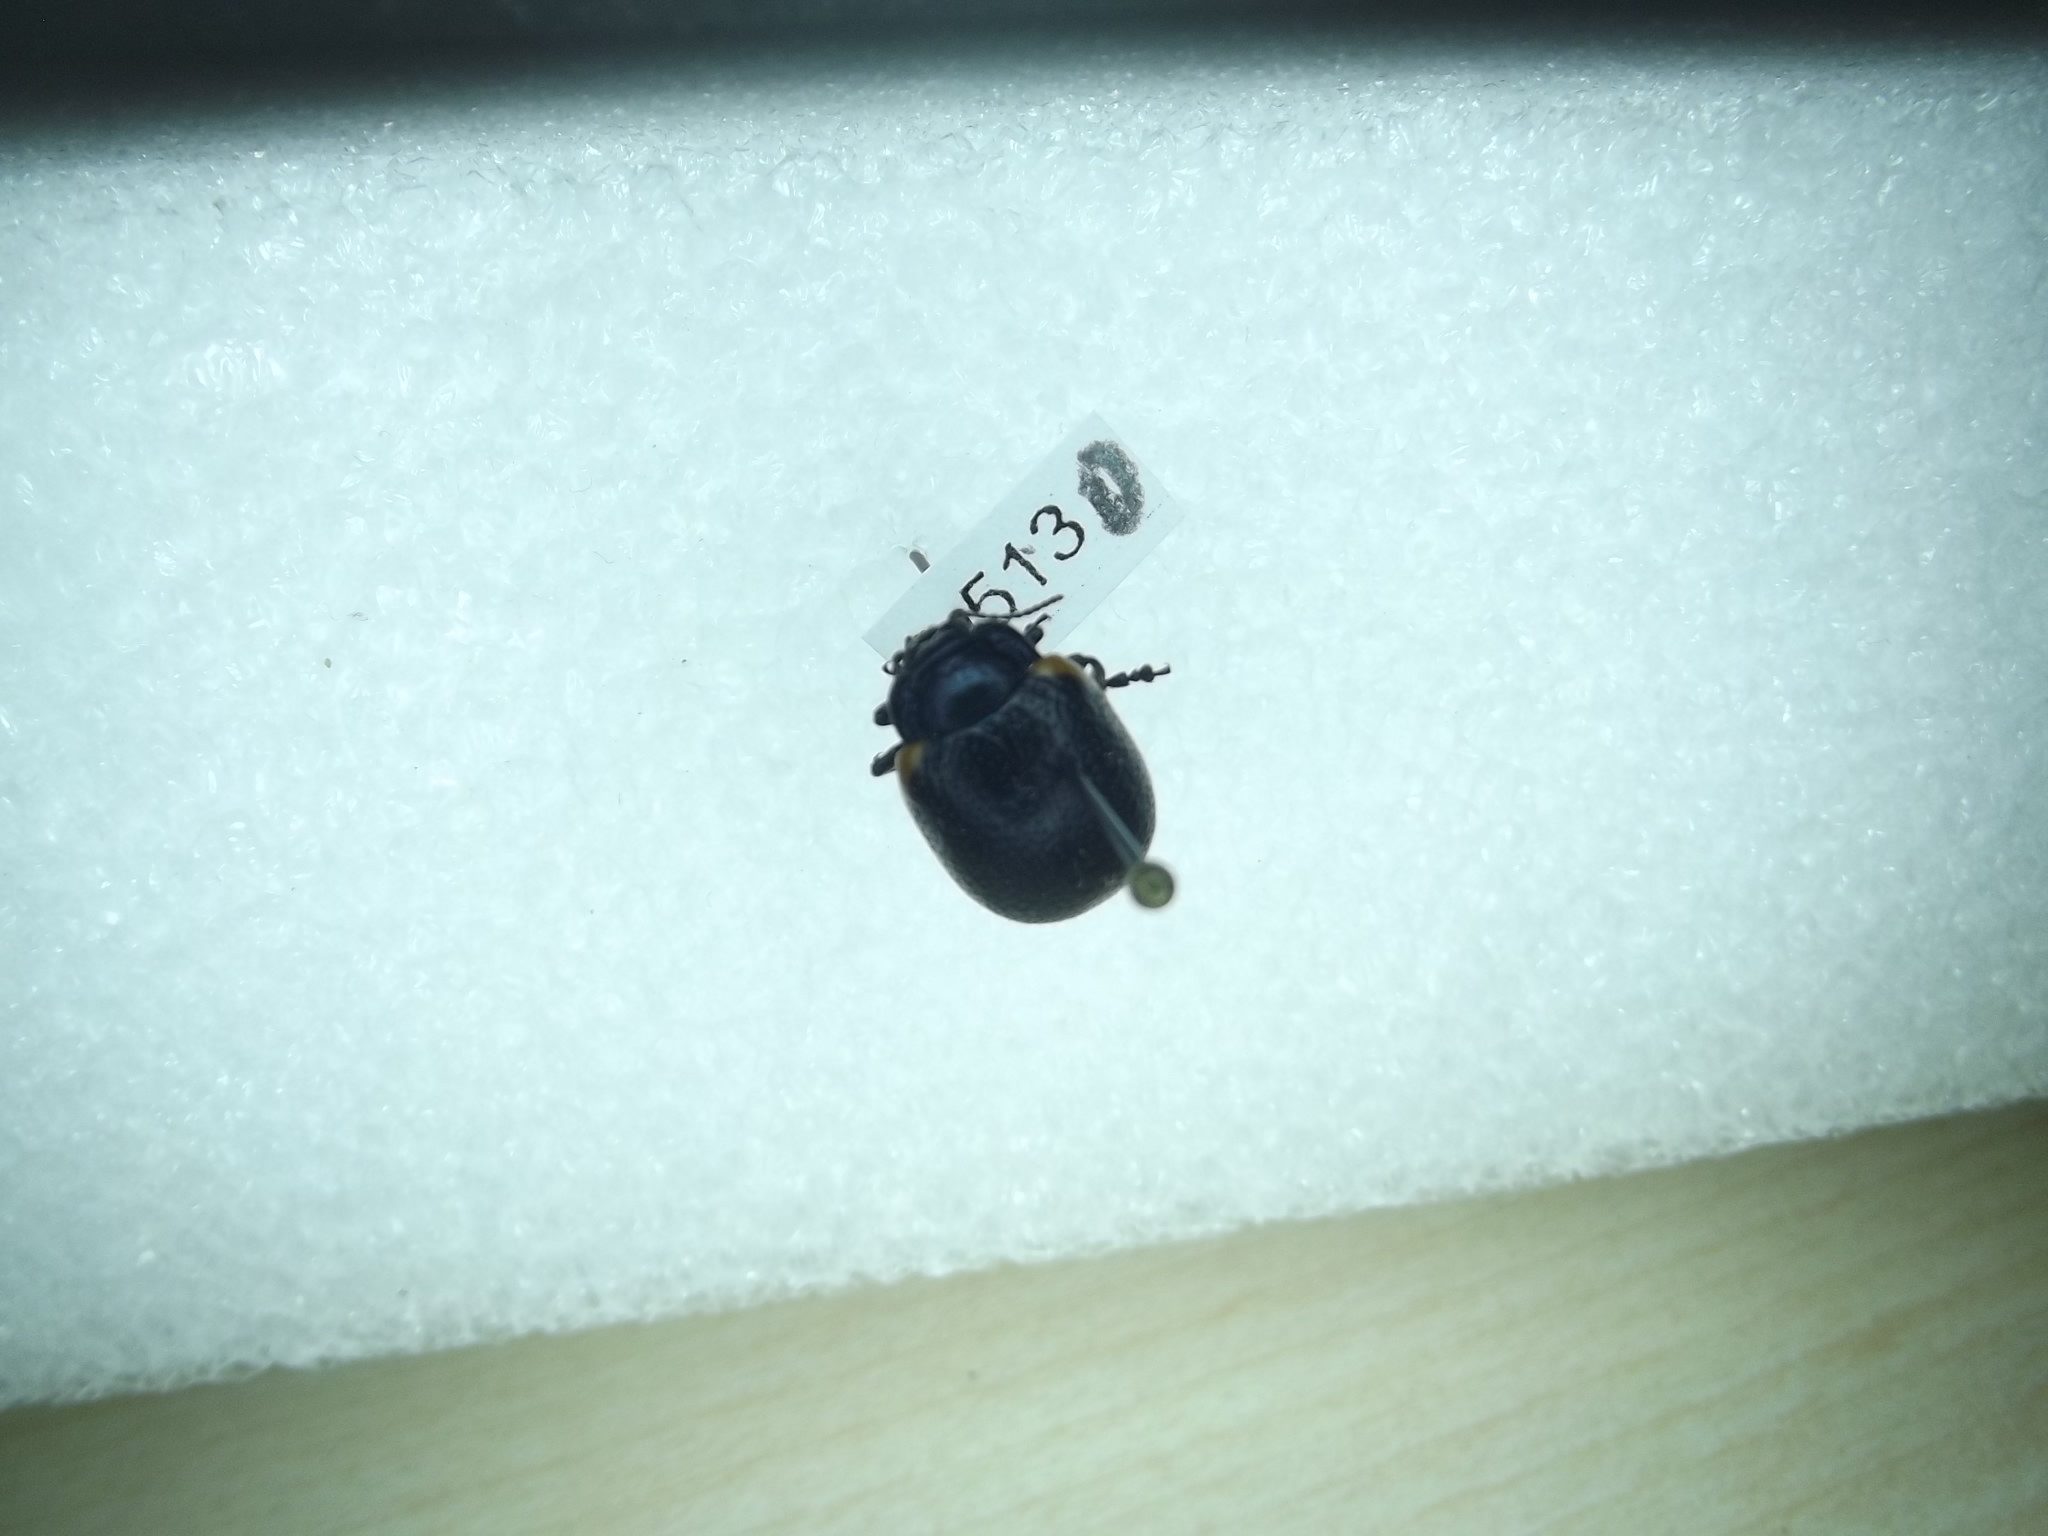Chrysolina_gypsophila: (850, 602, 1184, 928)
